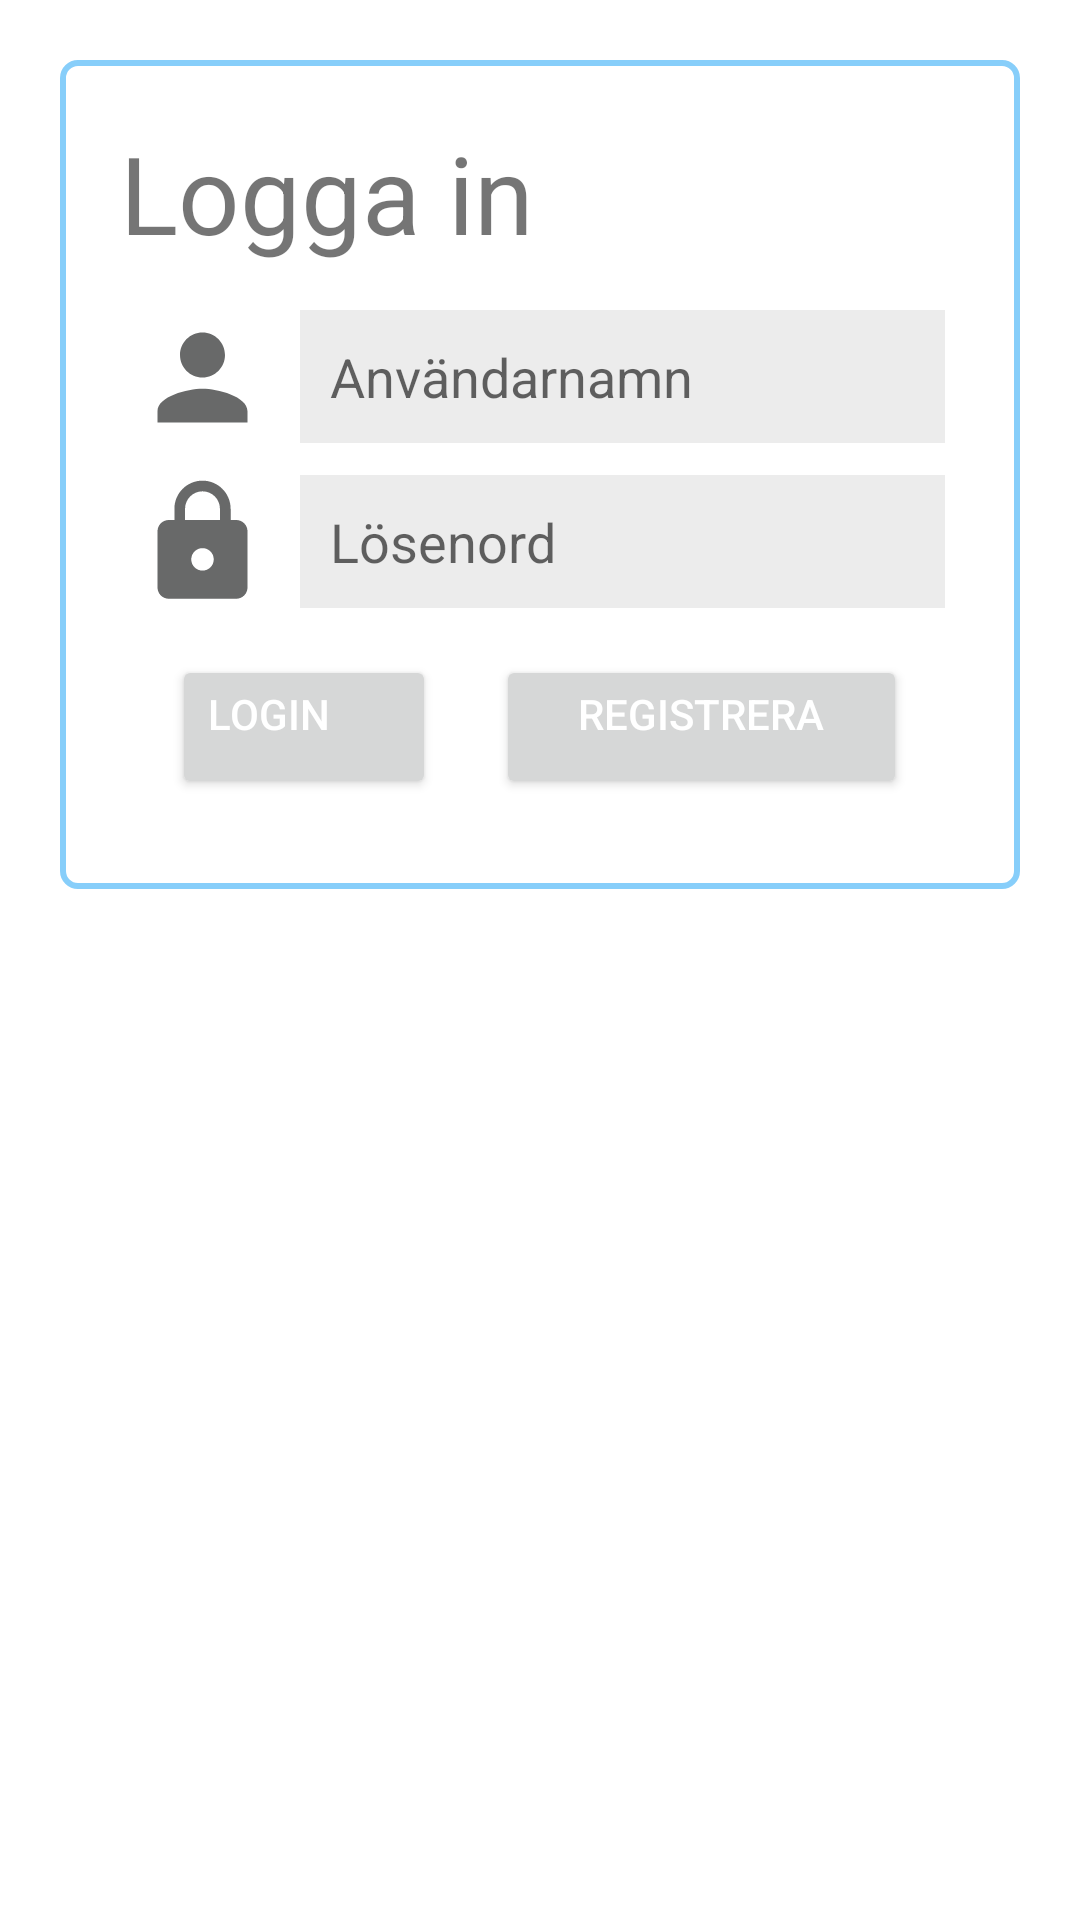

Icons on this 1080w x 1920h Android screen, each with the point to tap as (x,y):
lock: (202,539)
person: (202,377)
